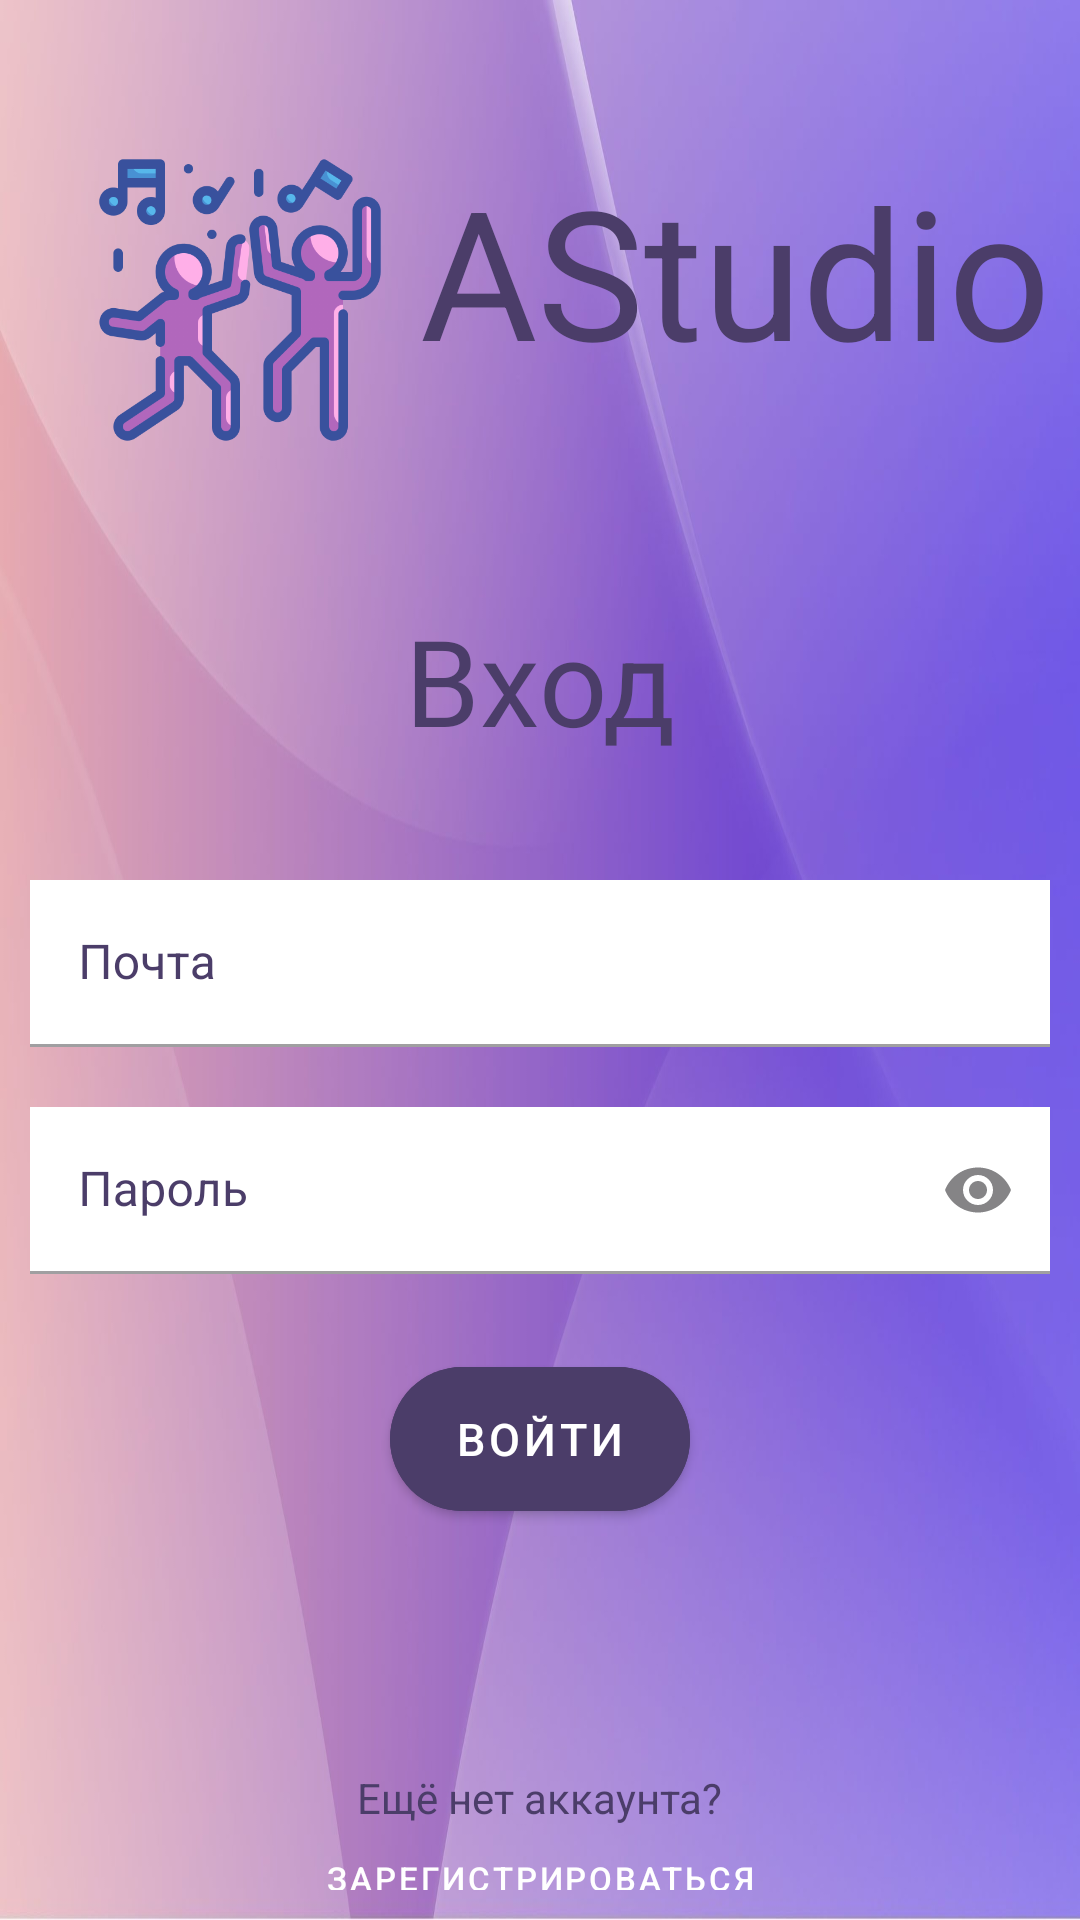

Icons on this 1080 × 1920 Android screen, each with the point to tap as (x=x, y=y):
dance: (x=240, y=300)
